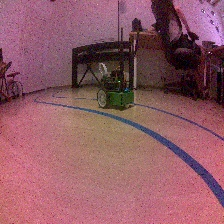rob: (95, 61, 134, 109)
